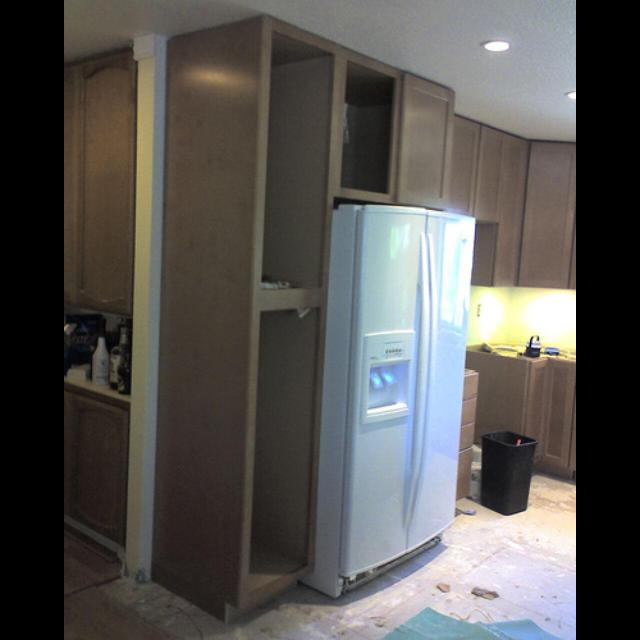Refrigerator: (298, 205, 480, 597)
